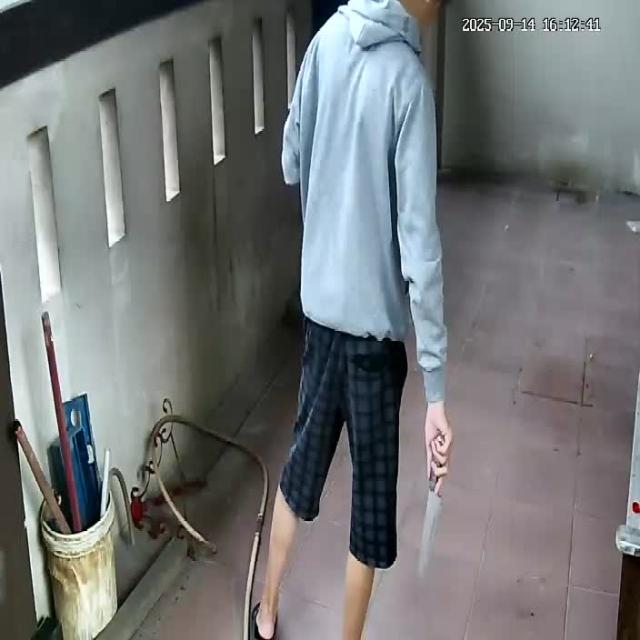senjata_tajam: (416, 482, 444, 589)
